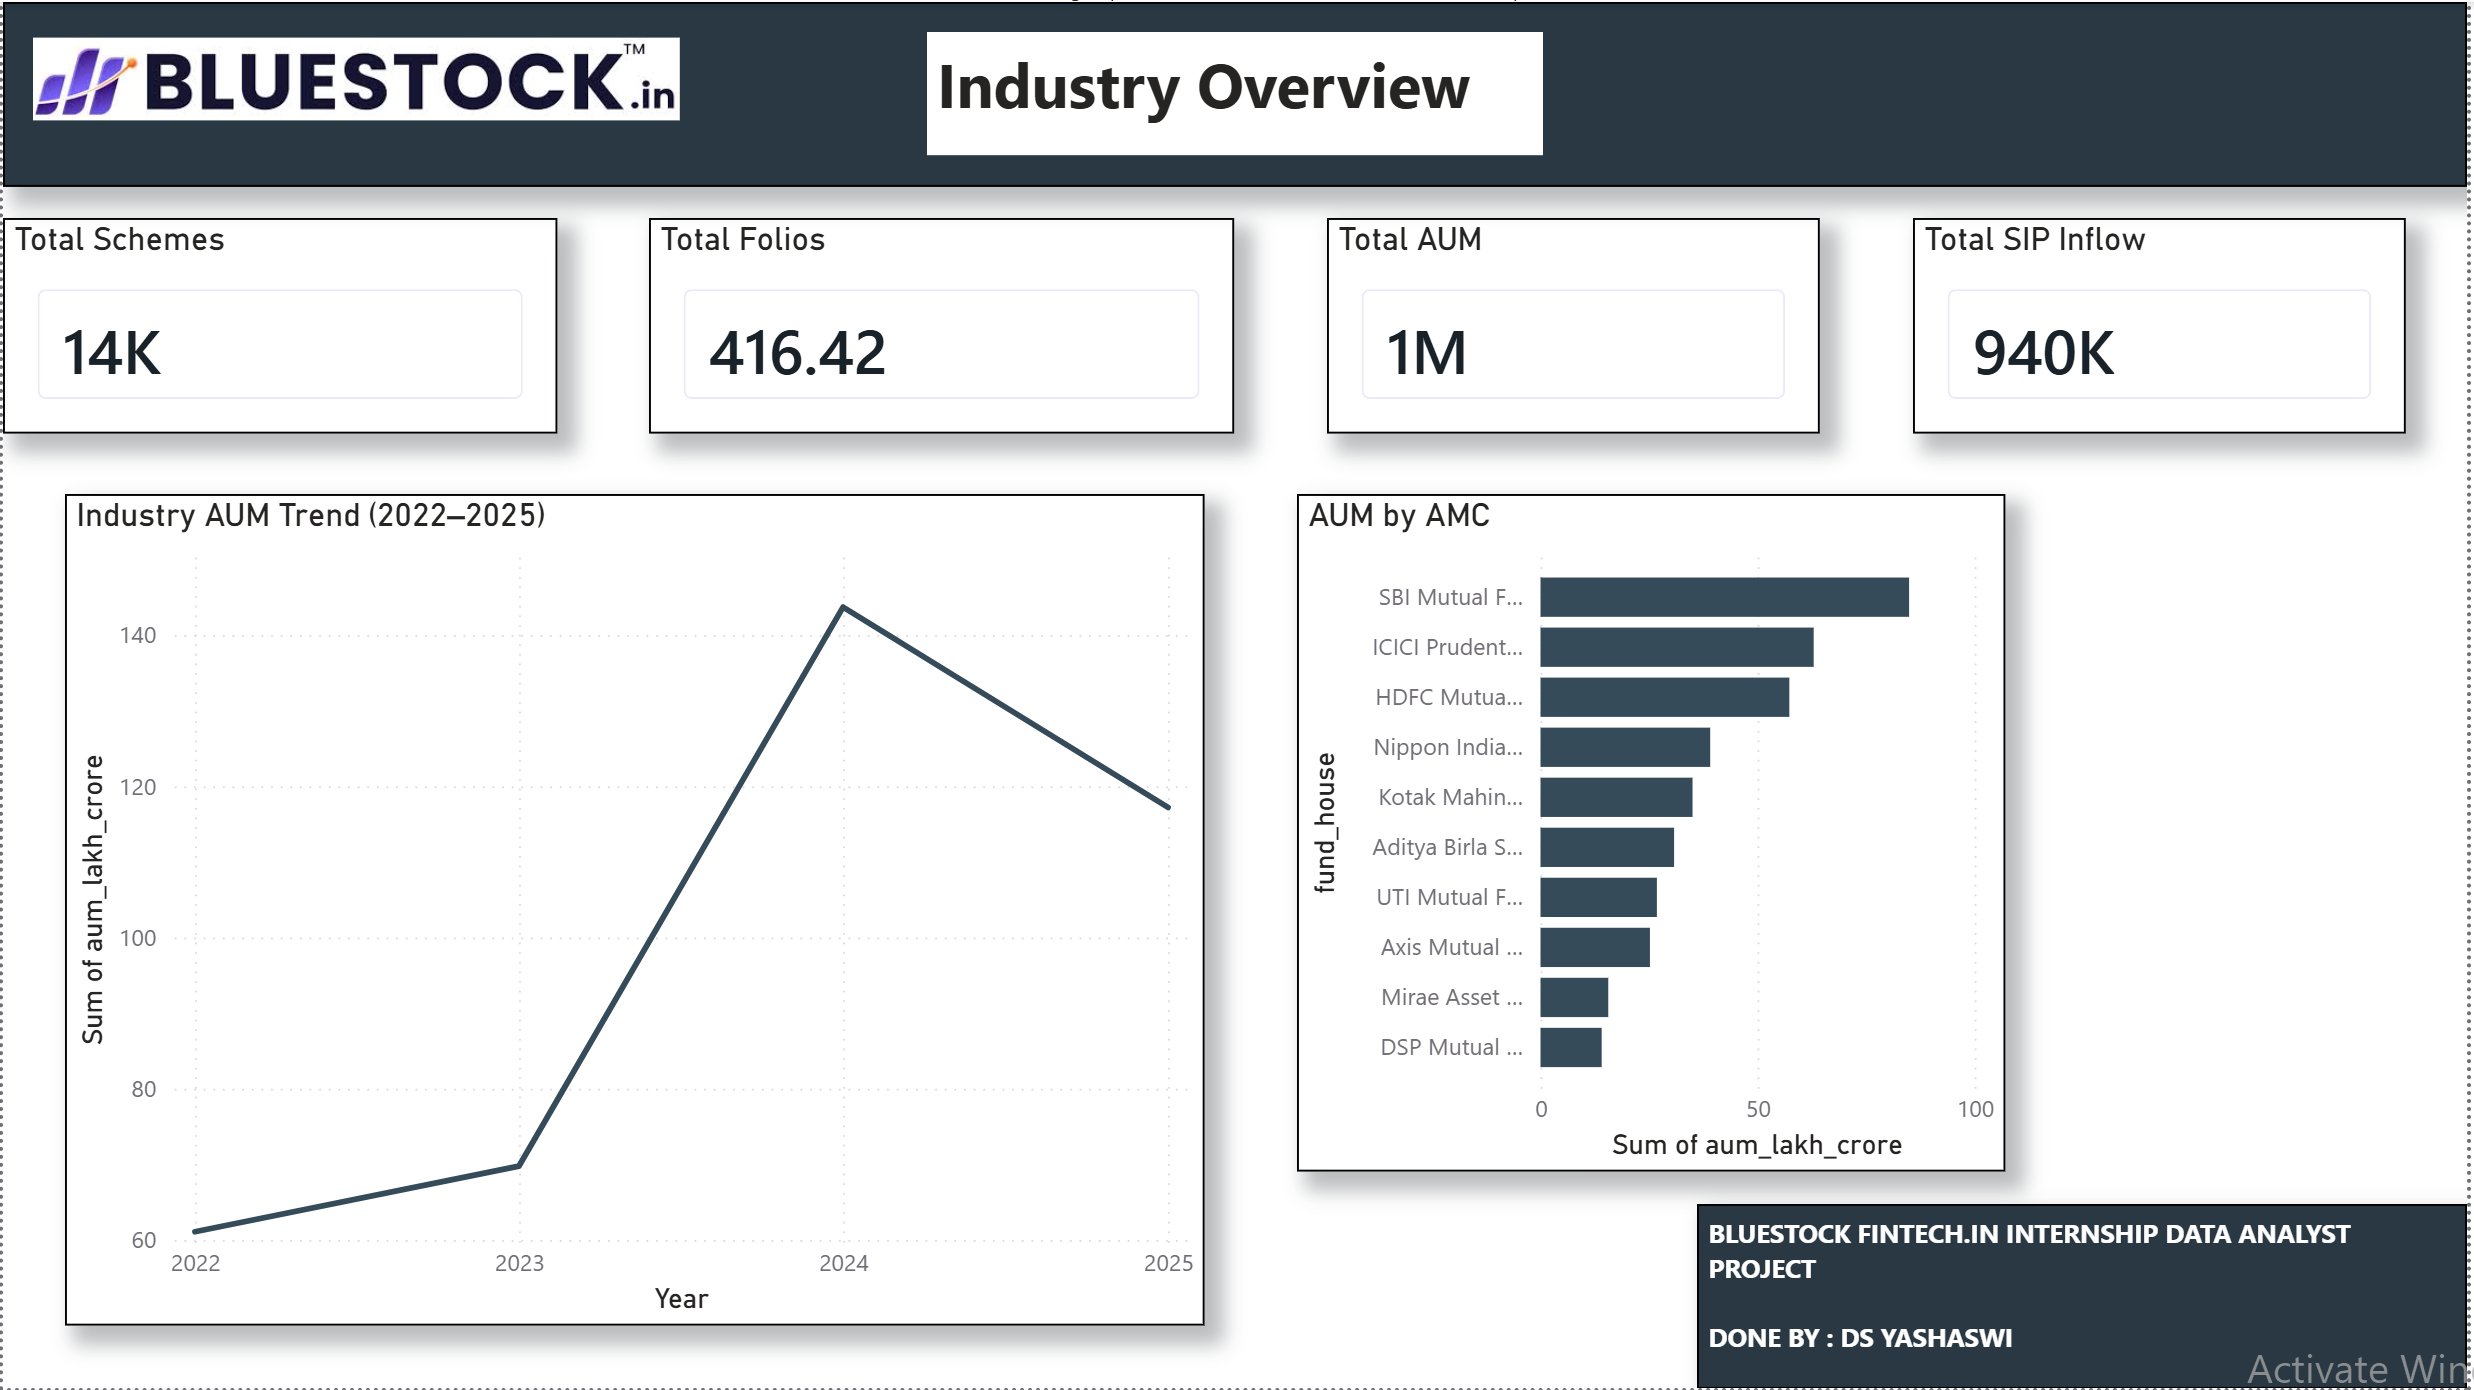

The page's visual inventory and layout, read from the dashboard file:
{"tool":"powerbi","page":{"name":"Industry Overview","canvas":[1280,720],"ordinal":0},"visuals":[{"type":"cardVisual","title":"Total AUM","fields":{"Data":["Sum(07_scheme_performance_clean.aum_crore)"]},"box":[688,112,256,112],"z":0},{"type":"cardVisual","title":"Total Schemes","fields":{"Data":["Sum(03_aum_by_fund_house.num_schemes)"]},"box":[0,112,288,112],"z":1000},{"type":"cardVisual","title":"Total SIP Inflow","fields":{"Data":["Sum(04_monthly_sip_inflows.sip_inflow_crore)"]},"box":[992,112,256,112],"z":2000},{"type":"cardVisual","title":"Total Folios","fields":{"Data":["Sum(06_industry_folio_count.total_folios_crore)"]},"box":[336,112,304,112],"z":3000},{"type":"lineChart","title":"Industry AUM Trend (2022–2025)","fields":{"Category":["03_aum_by_fund_house.date.Variation.Date Hierarchy.Year","03_aum_by_fund_house.date.Variation.Date Hierarchy.Quarter","03_aum_by_fund_house.date.Variation.Date Hierarchy.Month","03_aum_by_fund_house.date.Variation.Date Hierarchy.Day"],"Y":["Sum(03_aum_by_fund_house.aum_lakh_crore)"]},"box":[32,256,592,432],"z":4000},{"type":"clusteredBarChart","title":"AUM by AMC","fields":{"Category":["03_aum_by_fund_house.fund_house"],"Y":["Sum(03_aum_by_fund_house.aum_lakh_crore)"]},"box":[672,256,368,352],"z":5000},{"type":"textbox","box":[0,0,1280,96],"z":5001},{"type":"image","box":[16,0,336,80],"z":5002},{"type":"textbox","box":[480,16,320,64],"z":5003},{"type":"textbox","box":[880,624,400,96],"z":5004}]}

Visuals, with their boxes in screenshot pixels (x1, y1, x2, y2), scaled from the page's 1280x720 canvas onto the 2474x1390 screenshot:
"Total AUM" cardVisual: Rect(1330, 216, 1825, 432)
"Total Schemes" cardVisual: Rect(0, 216, 557, 432)
"Total SIP Inflow" cardVisual: Rect(1917, 216, 2412, 432)
"Total Folios" cardVisual: Rect(649, 216, 1237, 432)
"Industry AUM Trend (2022–2025)" lineChart: Rect(62, 494, 1206, 1328)
"AUM by AMC" clusteredBarChart: Rect(1299, 494, 2010, 1174)
textbox: Rect(0, 0, 2473, 185)
image: Rect(31, 0, 680, 154)
textbox: Rect(928, 31, 1546, 154)
textbox: Rect(1701, 1205, 2473, 1389)
